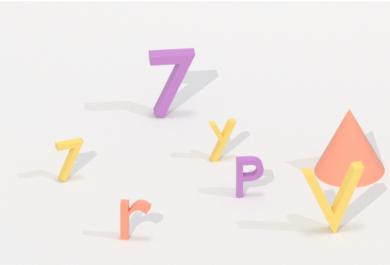0-TamGiac: (313, 107, 388, 190)
7: (145, 44, 198, 121), (52, 132, 87, 187)
P: (233, 152, 265, 201)
V: (300, 160, 367, 238)
r: (117, 195, 155, 243)
y: (205, 115, 239, 164)
